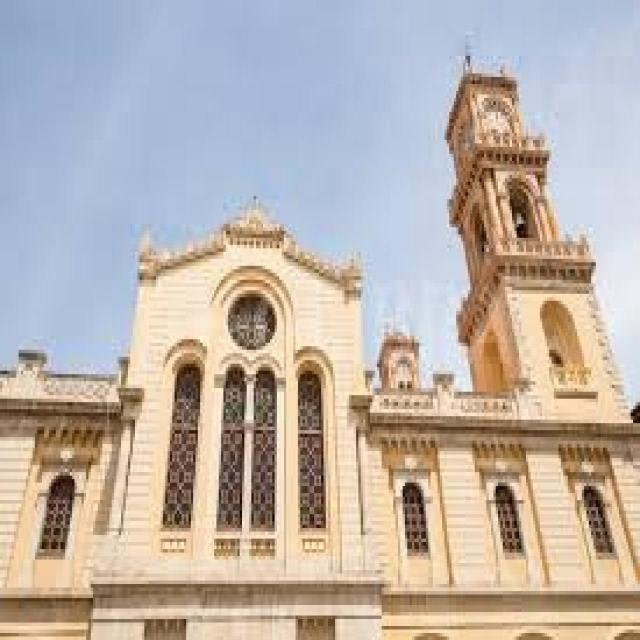Agios Minas: (2, 46, 640, 640)
